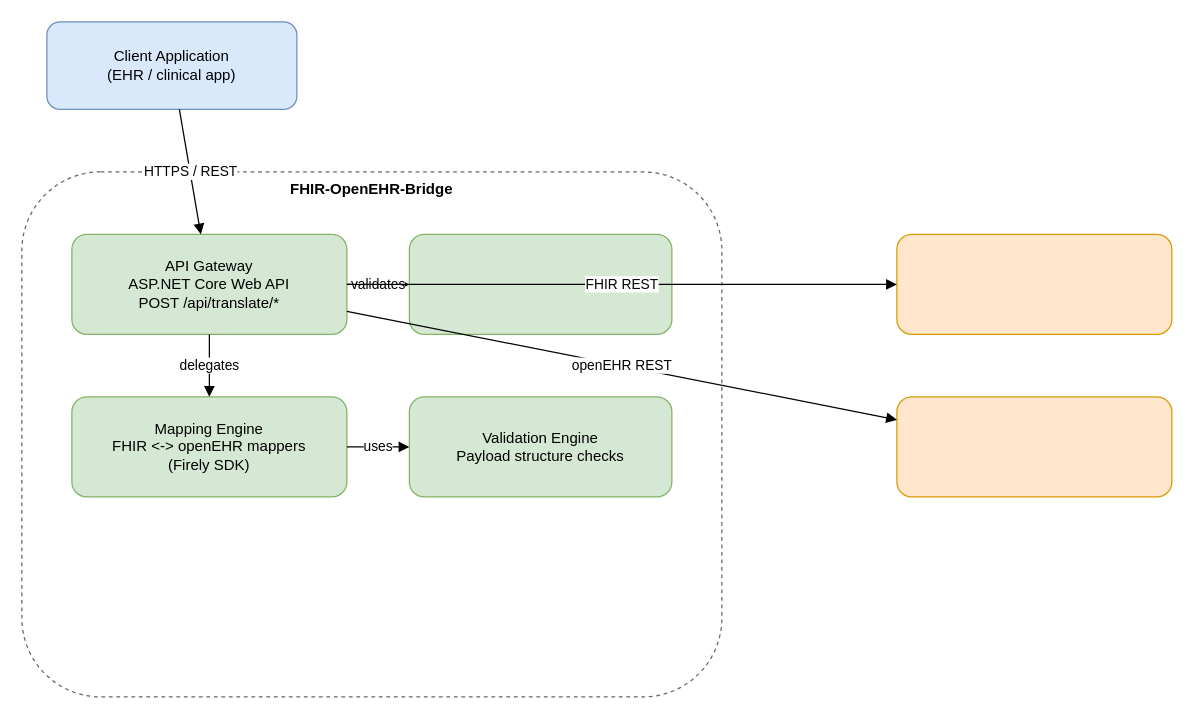
The diagram is 1194 pixels wide and 719 high, and some of its shapes have lost their labels. Here are the shapes that lost their labels. From the top down, the box of each, then its label:
(408, 233, 672, 334): Cache Archetypes / terminology
(896, 233, 1172, 334): FHIR Server HL7 FHIR R4/R5 repository
(896, 396, 1172, 497): openEHR CDR Clinical Data Repository (RM/AQL)
